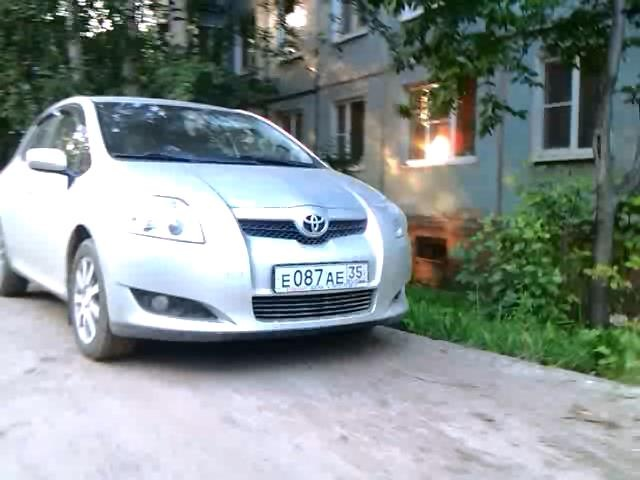car license plate: (270, 259, 370, 296)
